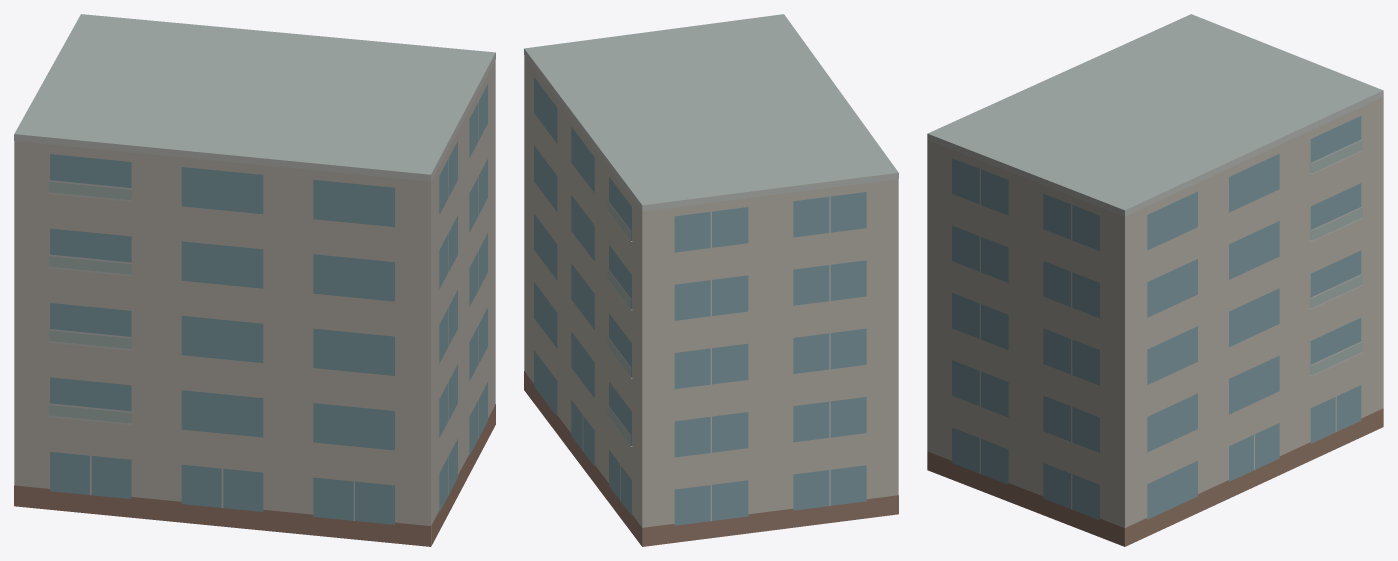
The model's file is survey-upis-32524054.glb.
3 renders of one model, left to right at view 1: azimuth 30°, elevation 25°; view 2: azimuth 150°, elevation 25°; view 3: azimuth 270°, elevation 25°, orthographic. The views are drawn at different scales.
Visible parts, largest first — view 1: survey-upis-32524054.tmp; view 2: survey-upis-32524054.tmp; view 3: survey-upis-32524054.tmp.
Boxes of the visible parts, <box> form: survey-upis-32524054.tmp: <box>14,14,495,546</box>; survey-upis-32524054.tmp: <box>524,14,898,546</box>; survey-upis-32524054.tmp: <box>927,14,1383,546</box>.
Size of the model in its own units: 16.27 by 13 by 15.98.
